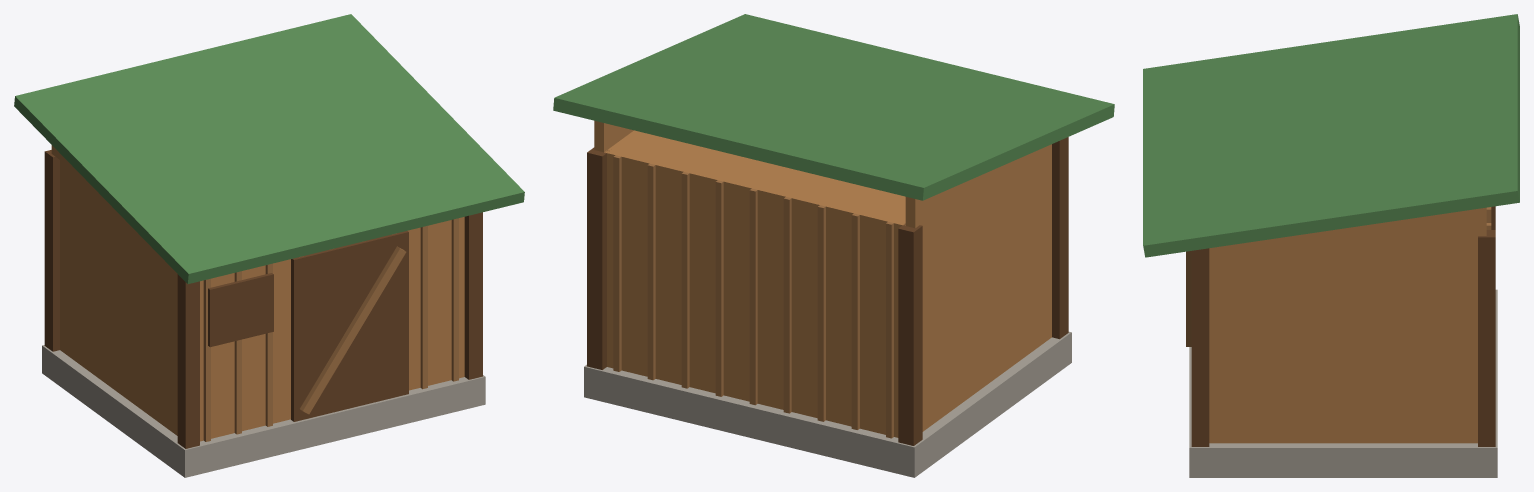
File: prop_shed.glb
3 renders of one model, left to right at view 1: azimuth 30°, elevation 25°; view 2: azimuth 150°, elevation 25°; view 3: azimuth 270°, elevation 25°, orthographic. The views are drawn at different scales.
Visible parts, largest first — view 1: Prop_Shed; view 2: Prop_Shed; view 3: Prop_Shed.
Boxes of the visible parts, x1,y1,x2,y2 form: Prop_Shed: (14, 14, 524, 477); Prop_Shed: (553, 14, 1114, 477); Prop_Shed: (1143, 14, 1519, 477).
Bounding box in the file's own units: 3.8 × 2.97 × 3.42.
